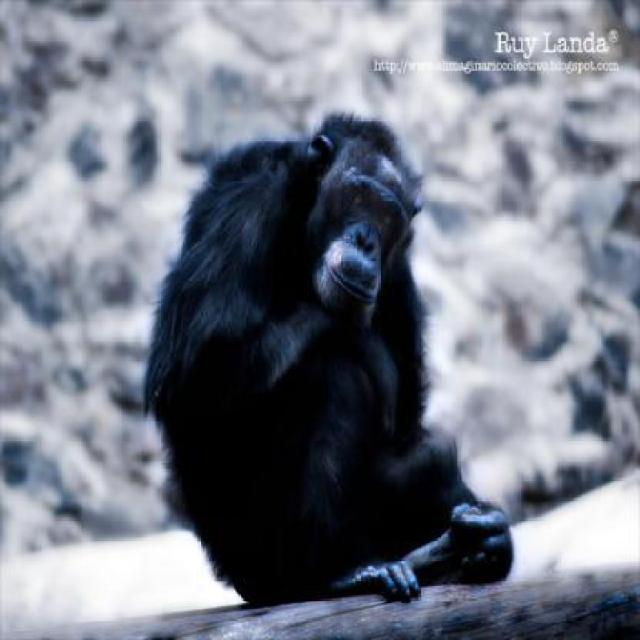Monkey: (147, 112, 513, 596)
